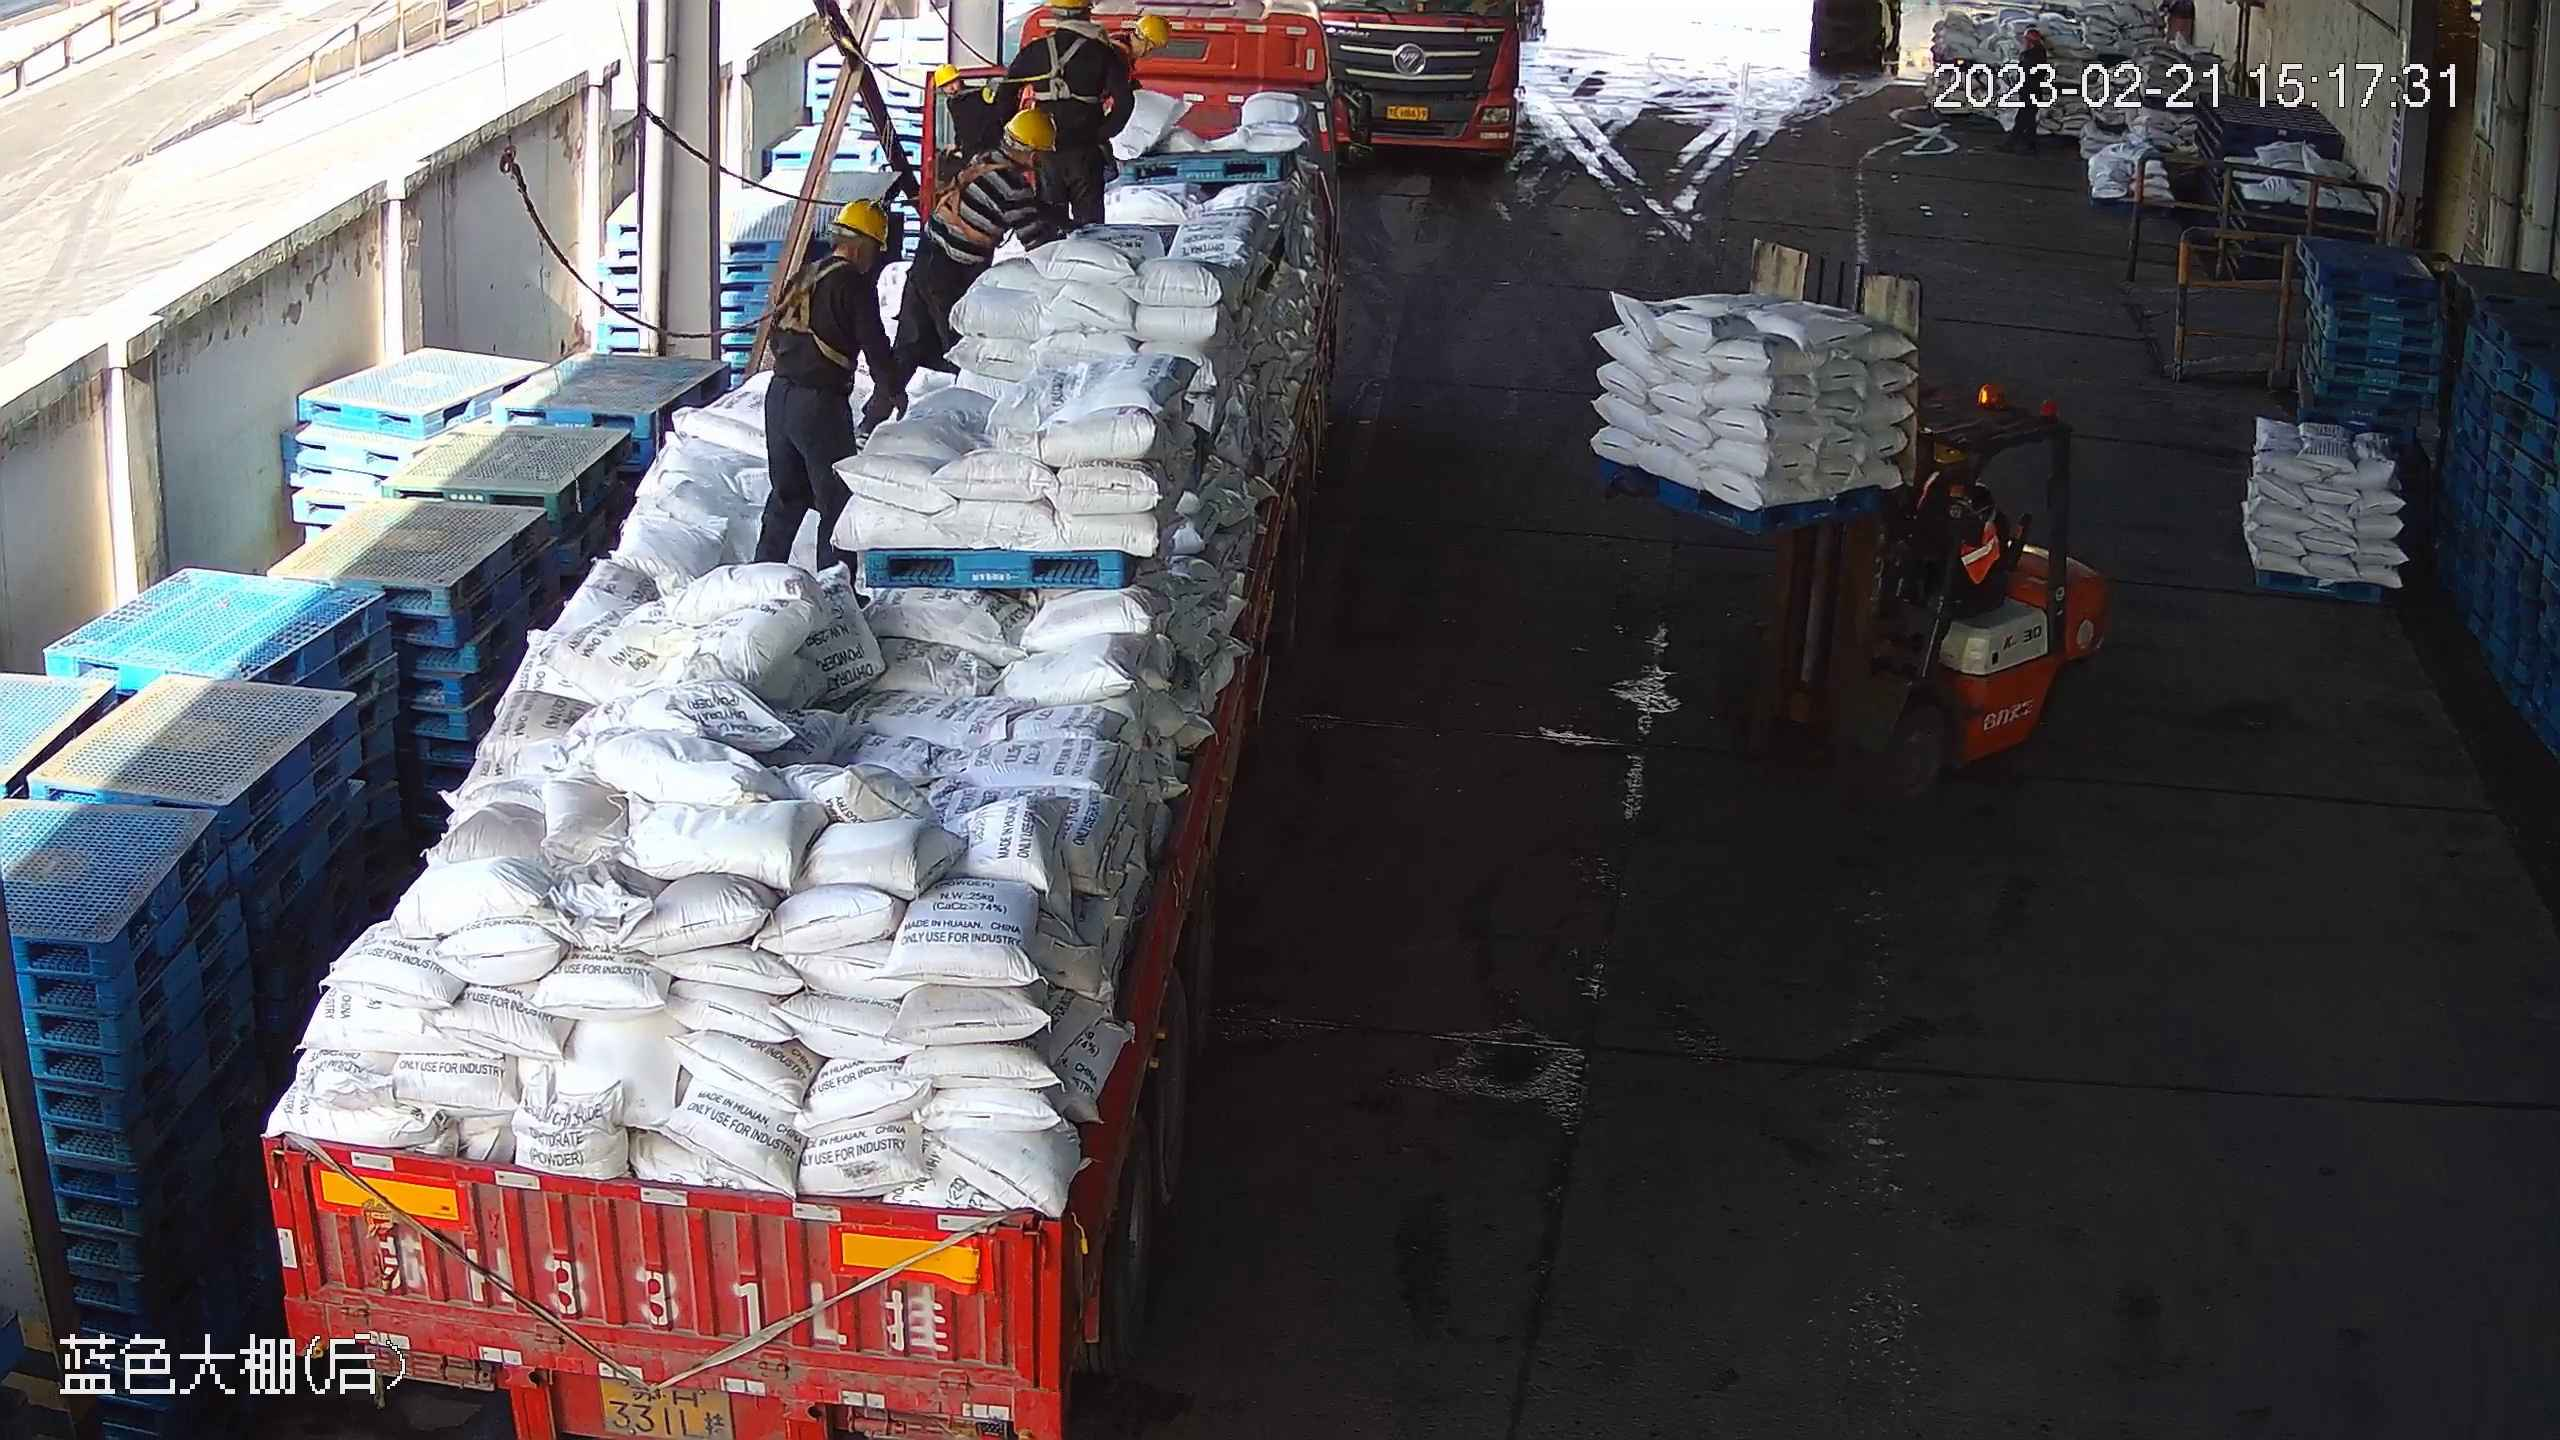belt: (786, 267, 862, 364), (942, 158, 1018, 251), (1034, 30, 1104, 95)
head: (795, 201, 890, 295), (979, 109, 1049, 197), (1028, 1, 1093, 55)
helmet: (1002, 109, 1053, 158), (830, 195, 883, 243), (1132, 11, 1169, 53), (927, 62, 963, 88)
people: (760, 197, 914, 595), (886, 115, 1062, 430), (1023, 1, 1142, 232)
truck: (256, 1, 1384, 1440)
